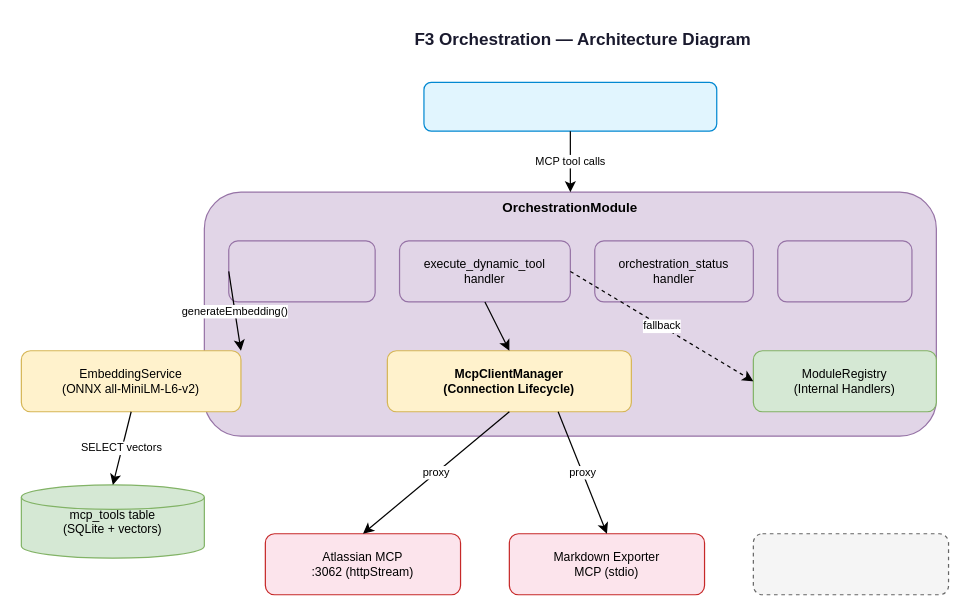
The diagram is 970 pixels wide and 616 high, and some of its shapes have lost their labels. Here are the shapes that lost their labels. From the top down, the centre of each, then its label:
At point (570, 106): "AI Agents (LangGraph)".
At point (301, 271): "find_tools handler".
At point (844, 271): "toggle_tool handler".
At point (850, 564): "Future Servers (GitHub, Slack...)".
